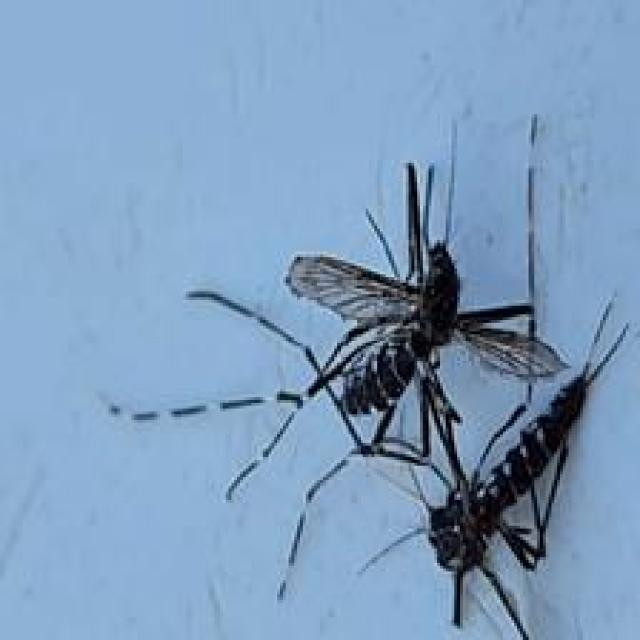Aedes albopictus: (100, 113, 637, 638)
